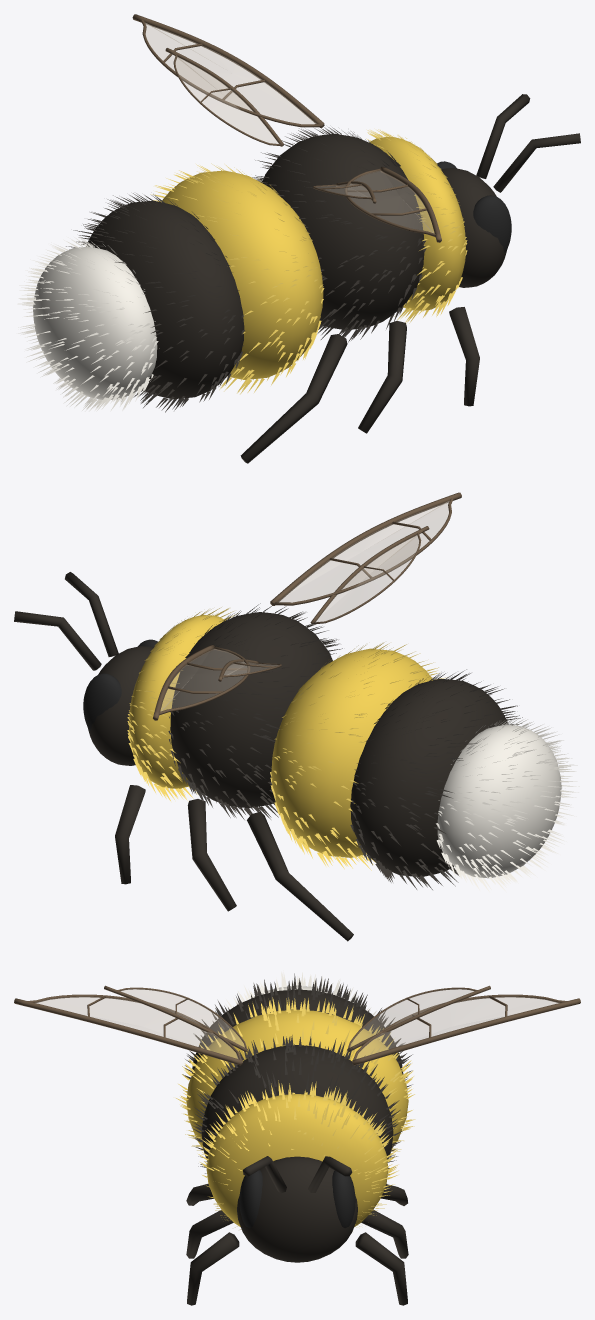
File: bumblebee.glb
The picture shows the model from 3 angles, top to bottom: view 1: azimuth 30°, elevation 25°; view 2: azimuth 150°, elevation 25°; view 3: azimuth 270°, elevation 25°; orthographic projection. The views are drawn at different scales.
Parts seen in each view (by area): view 1: Thorax, Abdomen middle, Abdomen front, Abdomen tail, Collar, fore_wing membrane.001, Abdomen tail fur, Head, hind_wing membrane.001, fore_wing membrane, Abdomen middle fur, Leg.002 (+12 smaller); view 2: Thorax, Abdomen middle, Abdomen front, Abdomen tail, Collar, fore_wing membrane, Abdomen tail fur, Head, Abdomen middle fur, hind_wing membrane, Thorax fur, fore_wing membrane.001 (+12 smaller); view 3: Collar, Abdomen front, Thorax, Head, fore_wing membrane, fore_wing membrane.001, Collar fur, Abdomen middle, Thorax fur, Abdomen front fur, Abdomen middle fur, hind_wing membrane (+16 smaller).
Boxes of the visible parts, x1=… form: Thorax: x1=262, y1=133, x2=424, y2=330; Abdomen middle: x1=86, y1=200, x2=244, y2=399; Abdomen front: x1=162, y1=170, x2=323, y2=379; Abdomen tail: x1=33, y1=246, x2=157, y2=399; Collar: x1=369, y1=137, x2=465, y2=310; fore_wing membrane.001: x1=145, y1=22, x2=316, y2=123; Abdomen tail fur: x1=17, y1=237, x2=159, y2=411; Head: x1=441, y1=168, x2=506, y2=287; hind_wing membrane.001: x1=175, y1=56, x2=278, y2=143; fore_wing membrane: x1=348, y1=170, x2=434, y2=233; Abdomen middle fur: x1=66, y1=193, x2=244, y2=412; Leg.002: x1=240, y1=334, x2=347, y2=463; Thorax: x1=170, y1=612, x2=332, y2=808; Abdomen middle: x1=350, y1=679, x2=508, y2=876; Abdomen front: x1=271, y1=648, x2=432, y2=857; Abdomen tail: x1=437, y1=724, x2=561, y2=878; Collar: x1=129, y1=615, x2=225, y2=788; fore_wing membrane: x1=278, y1=501, x2=449, y2=602; Abdomen tail fur: x1=436, y1=716, x2=579, y2=892; Head: x1=88, y1=646, x2=153, y2=765; Abdomen middle fur: x1=350, y1=669, x2=522, y2=889; hind_wing membrane: x1=316, y1=535, x2=418, y2=621; Thorax fur: x1=168, y1=603, x2=342, y2=819; fore_wing membrane.001: x1=160, y1=649, x2=246, y2=711; Collar: x1=206, y1=1094, x2=388, y2=1226; Abdomen front: x1=186, y1=1009, x2=408, y2=1148; Thorax: x1=201, y1=1045, x2=393, y2=1160; Head: x1=237, y1=1156, x2=357, y2=1262; fore_wing membrane: x1=35, y1=997, x2=238, y2=1058; fore_wing membrane.001: x1=356, y1=997, x2=559, y2=1058; Collar fur: x1=198, y1=1080, x2=398, y2=1229; Abdomen middle: x1=192, y1=989, x2=403, y2=1074; Thorax fur: x1=192, y1=1035, x2=403, y2=1174; Abdomen front fur: x1=176, y1=997, x2=415, y2=1154; Abdomen middle fur: x1=182, y1=973, x2=412, y2=1091; hind_wing membrane: x1=120, y1=989, x2=244, y2=1047.
Size of the model in its own units: 2.21 by 1.12 by 2.24.
